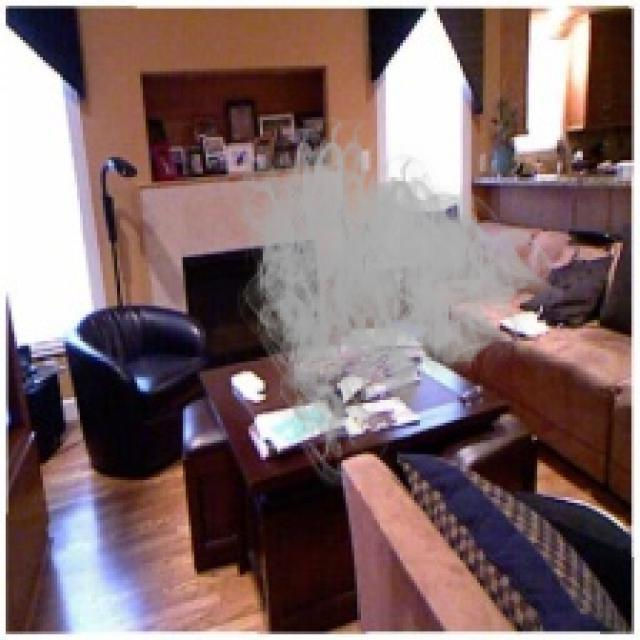Smoke: (220, 106, 563, 492)
